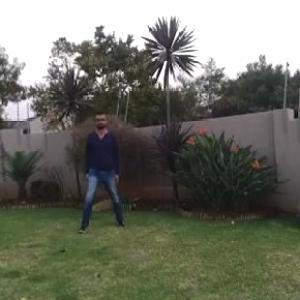follow: (84, 102, 120, 224)
